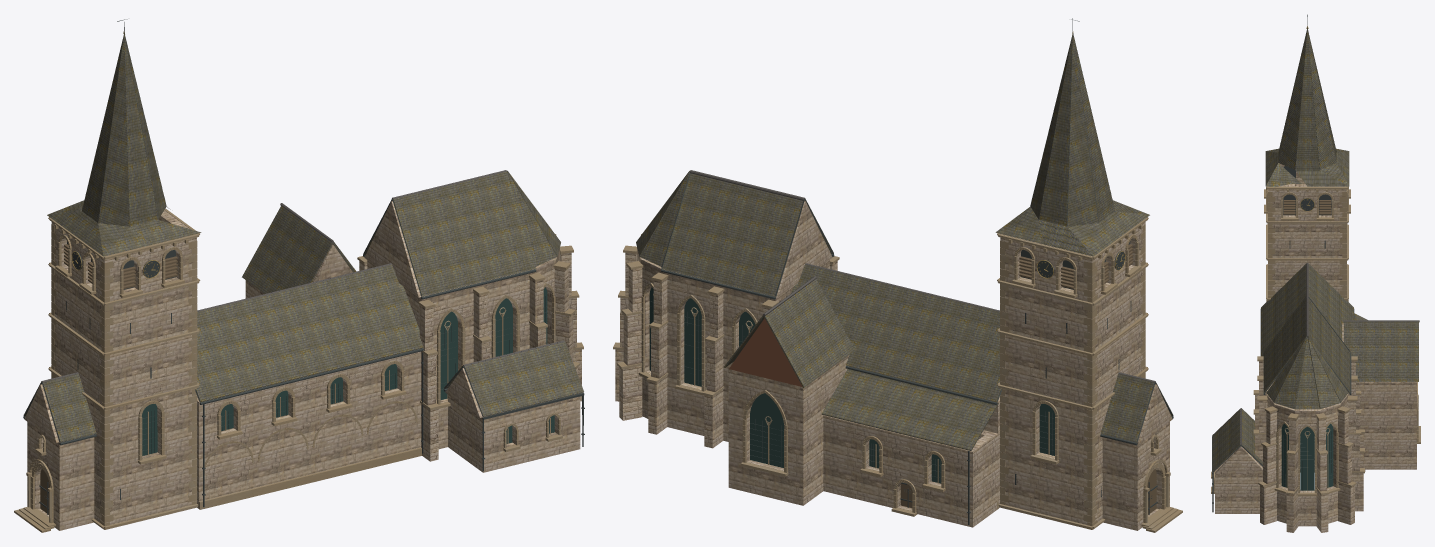
File: church-lod1.fbx
The picture shows the model from 3 angles, left to right: view 1: azimuth 30°, elevation 25°; view 2: azimuth 150°, elevation 25°; view 3: azimuth 270°, elevation 25°; orthographic projection. The views are drawn at different scales.
Parts seen in each view (by area): view 1: ChurchBody_LOD1, Sacristy - added 1786_LOD1; view 2: ChurchBody_LOD1; view 3: ChurchBody_LOD1, Sacristy - added 1786_LOD1.
Boxes of the visible parts, <box> form: ChurchBody_LOD1: <box>14,19,584,532</box>; Sacristy - added 1786_LOD1: <box>444,340,584,472</box>; ChurchBody_LOD1: <box>613,18,1182,532</box>; ChurchBody_LOD1: <box>1212,14,1420,532</box>; Sacristy - added 1786_LOD1: <box>1211,408,1262,513</box>.
Bounding box in the file's own units: 4371 × 3732 × 1977.
